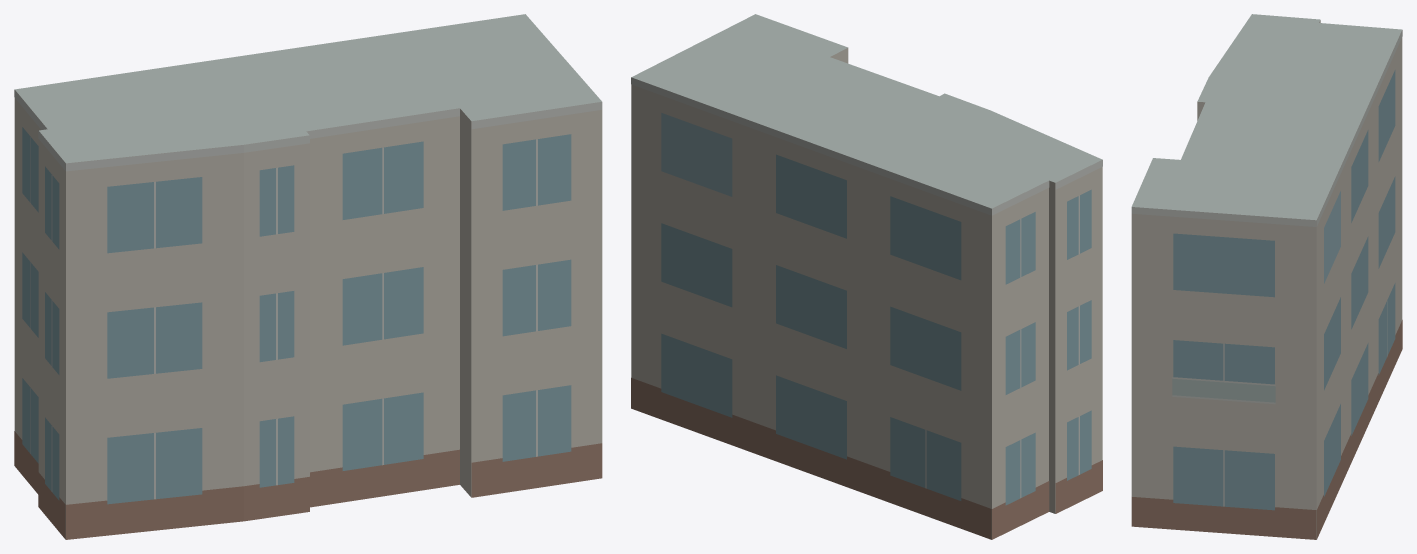
File: survey-upis-33007431.glb
3 renders of one model, left to right at view 1: azimuth 30°, elevation 25°; view 2: azimuth 150°, elevation 25°; view 3: azimuth 270°, elevation 25°, orthographic. The views are drawn at different scales.
Visible parts, largest first — view 1: survey-upis-33007431.tmp; view 2: survey-upis-33007431.tmp; view 3: survey-upis-33007431.tmp.
Boxes of the visible parts, bbox=[...] form: survey-upis-33007431.tmp: bbox=[14, 14, 602, 539]; survey-upis-33007431.tmp: bbox=[631, 14, 1102, 539]; survey-upis-33007431.tmp: bbox=[1131, 14, 1402, 539].
Bounding box in the file's own units: 15.78 × 11.4 × 8.77.
